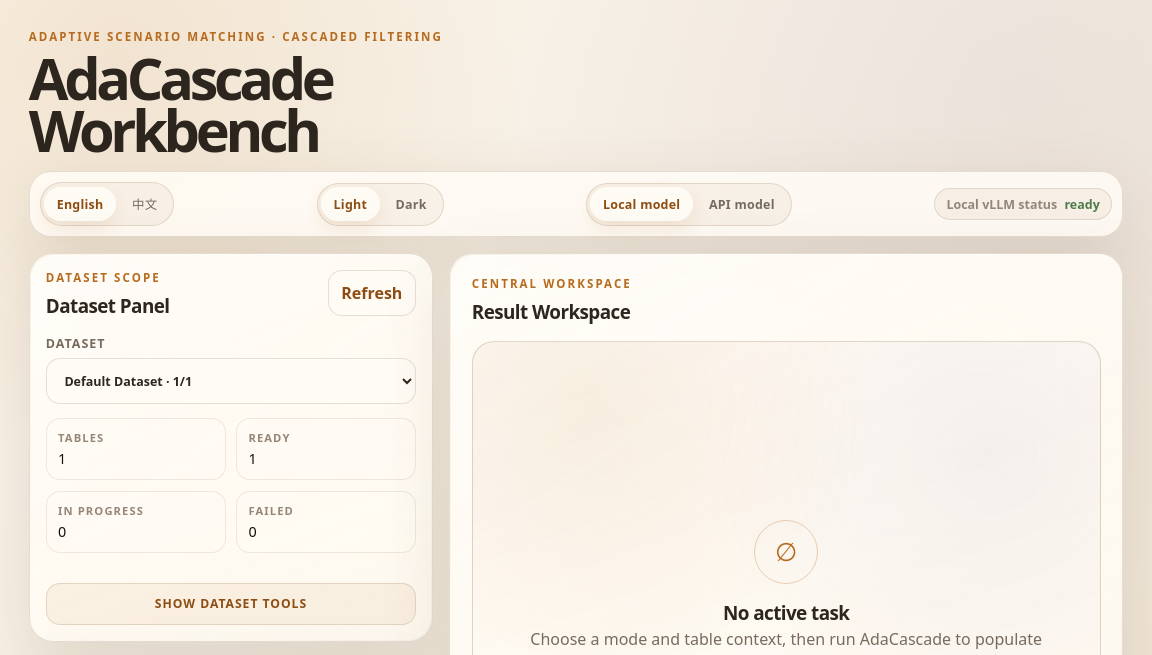
it: WorkspacePage › updates runtime backend through the API client and displays the response backend and status
This screenshot has width=1152, height=655.
Click the button "API model" at (742, 204), box left=696, top=187, right=787, bottom=221
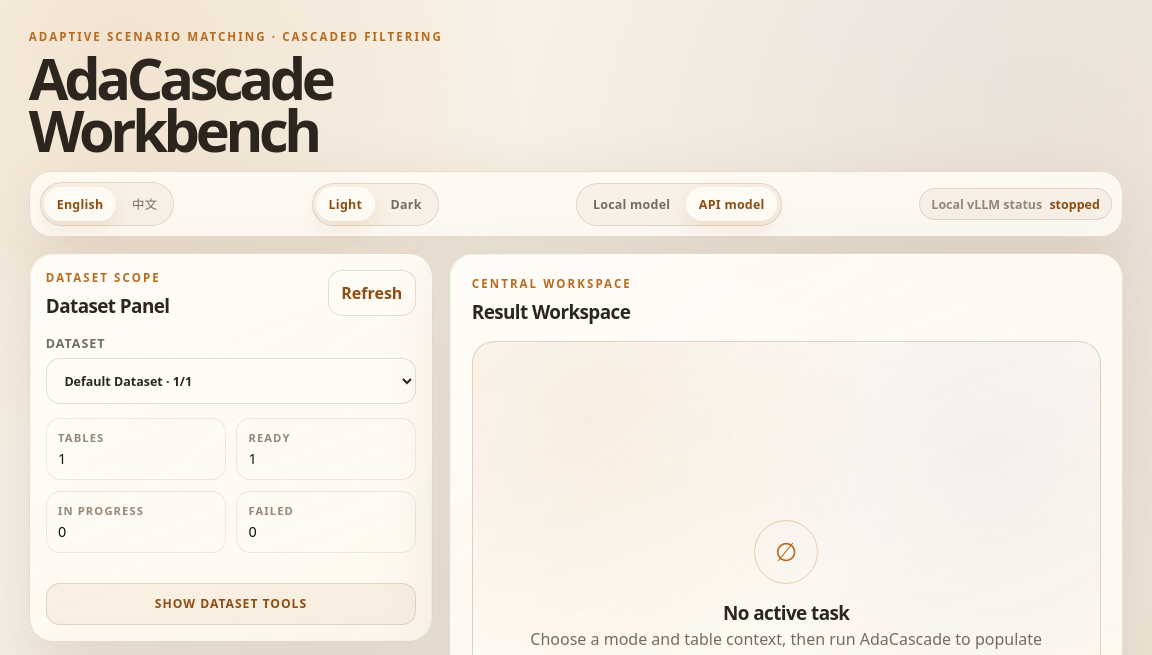
Check: the button "API model" is enabled, box left=686, top=187, right=777, bottom=221
Check: the message "Local vLLM status" shows "stopped", box left=1049, top=196, right=1100, bottom=213
